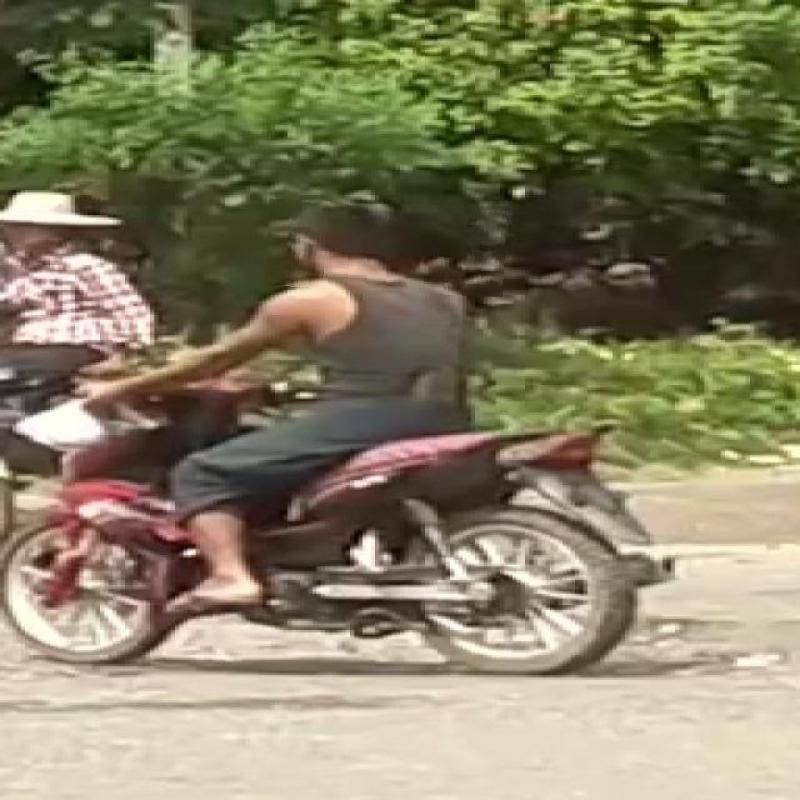nohelmet: (266, 201, 506, 294)
